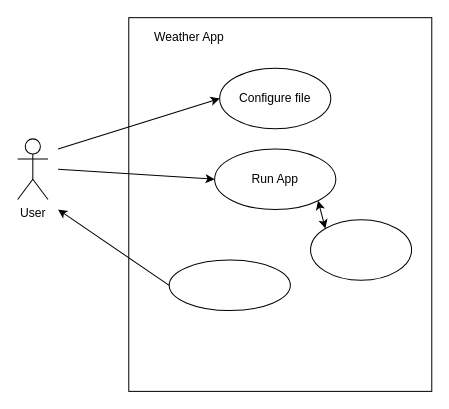
This 449x409 diagram has some shape labels left out. The centre of each missing label's shape, as x and y in pixels:
"API Weather" belongs at pixel 361 249.
"GUI interface" belongs at pixel 229 285.
